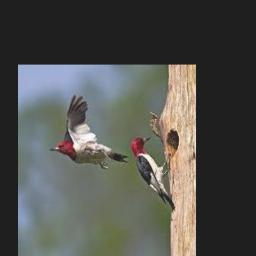Woodpecker: (49, 95, 129, 169), (130, 136, 175, 211)
